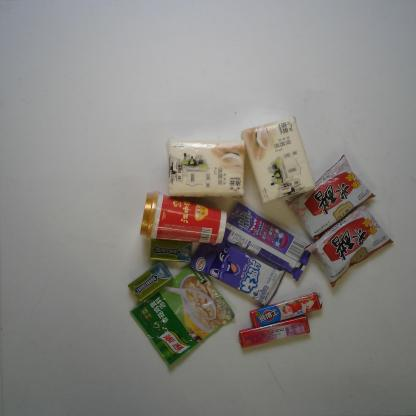Candy: (187, 232, 286, 309), (223, 201, 311, 283), (248, 291, 324, 330), (238, 316, 310, 348)
Gum: (127, 260, 176, 303), (148, 238, 193, 265)
Instant Drink: (140, 189, 228, 244)
Seasoner: (130, 258, 237, 369), (284, 152, 378, 242), (303, 204, 393, 290)
Tissue: (239, 114, 317, 206), (168, 140, 246, 200)
